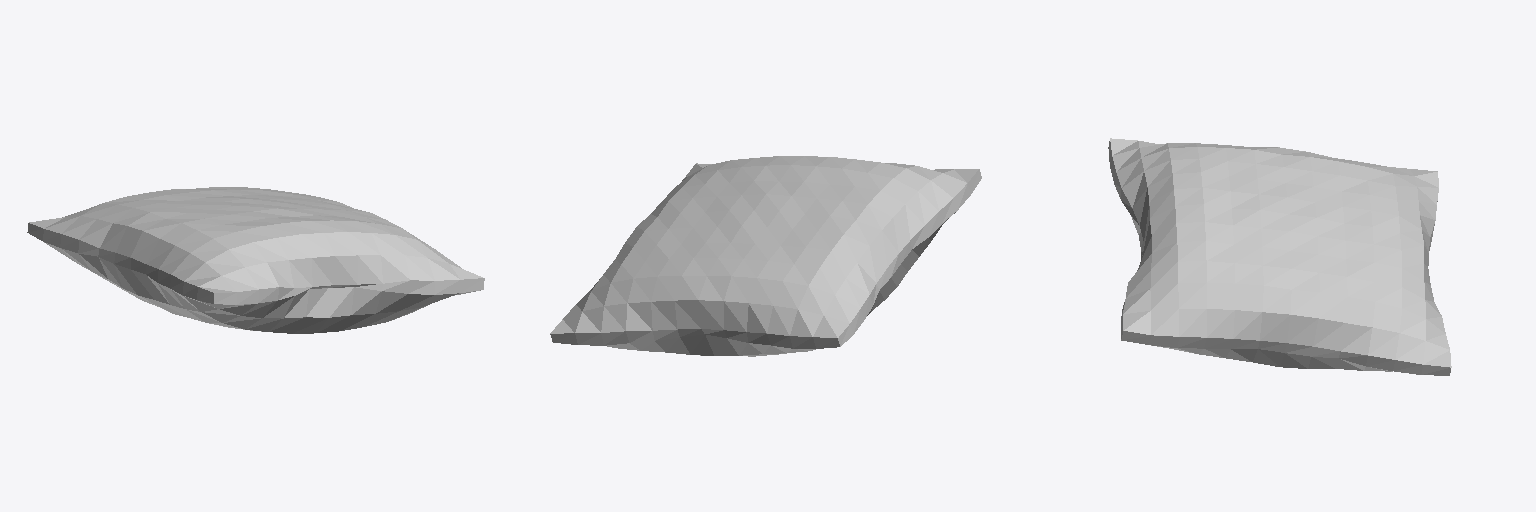
File: Pillow1.obj
3 views of the same model, side by side, from view 1: azimuth 30°, elevation 25°; view 2: azimuth 150°, elevation 25°; view 3: azimuth 270°, elevation 25° (orthographic).
Visible parts, largest first — view 1: Plane.001; view 2: Plane.001; view 3: Plane.001.
Boxes of the visible parts, box(x1,y1,x2,y2) form: Plane.001: box(27, 187, 484, 333); Plane.001: box(550, 156, 981, 356); Plane.001: box(1108, 138, 1451, 375).
Bounding box in the file's own units: 1.72 × 0.7434 × 1.7.